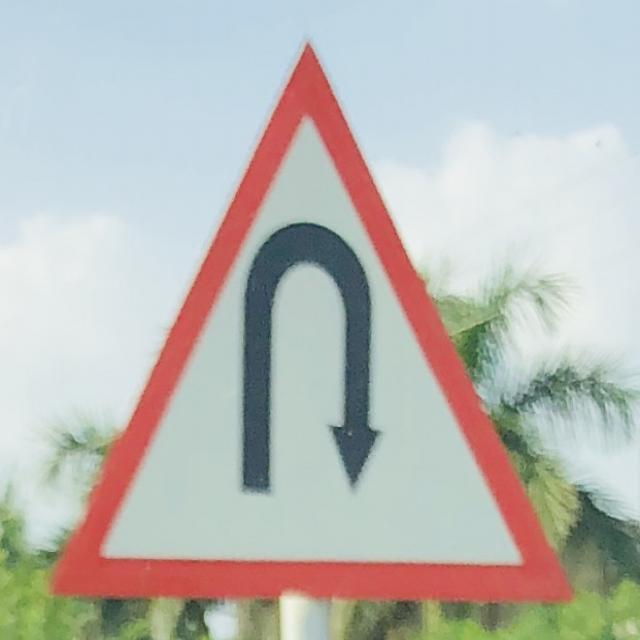u turn: (55, 45, 573, 604)
